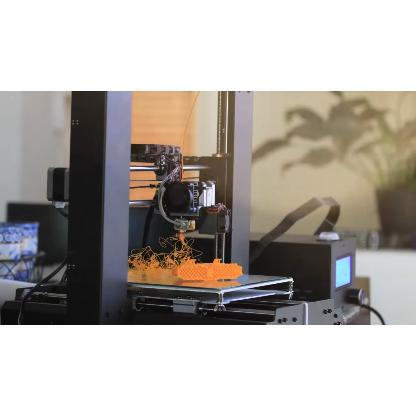fail: (131, 231, 201, 275)
